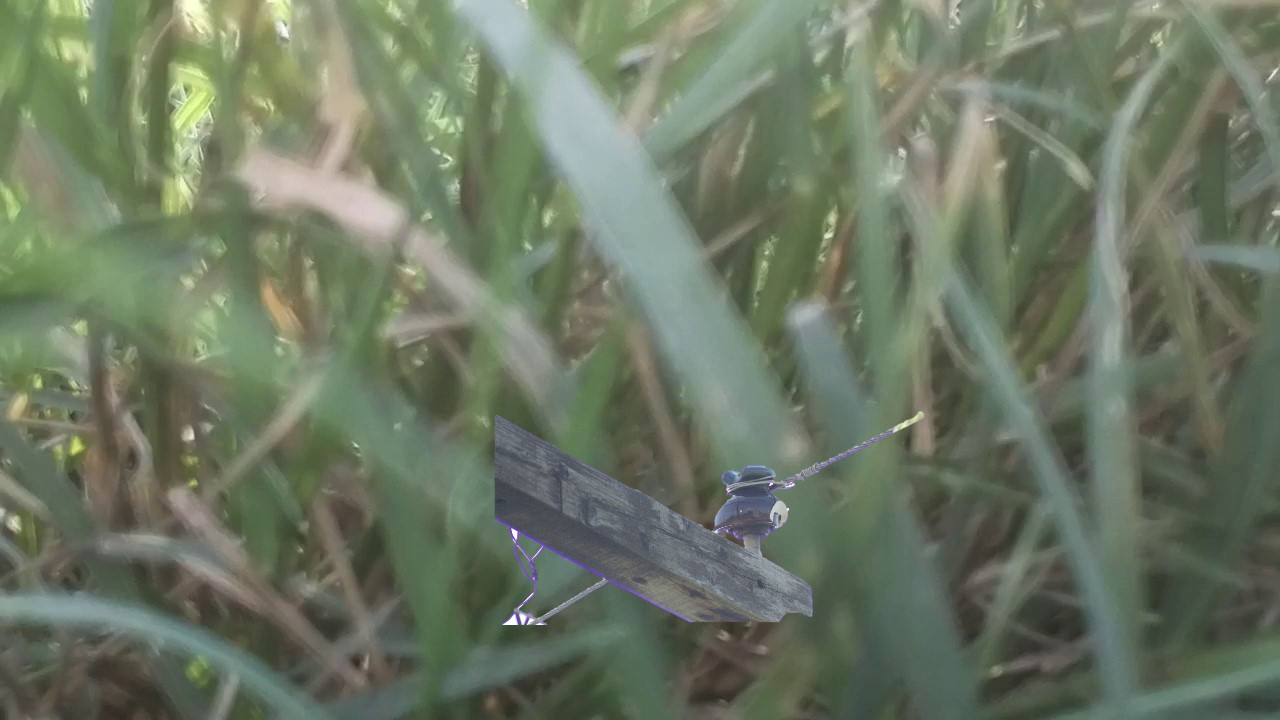defect_pin: (710, 457, 799, 549)
